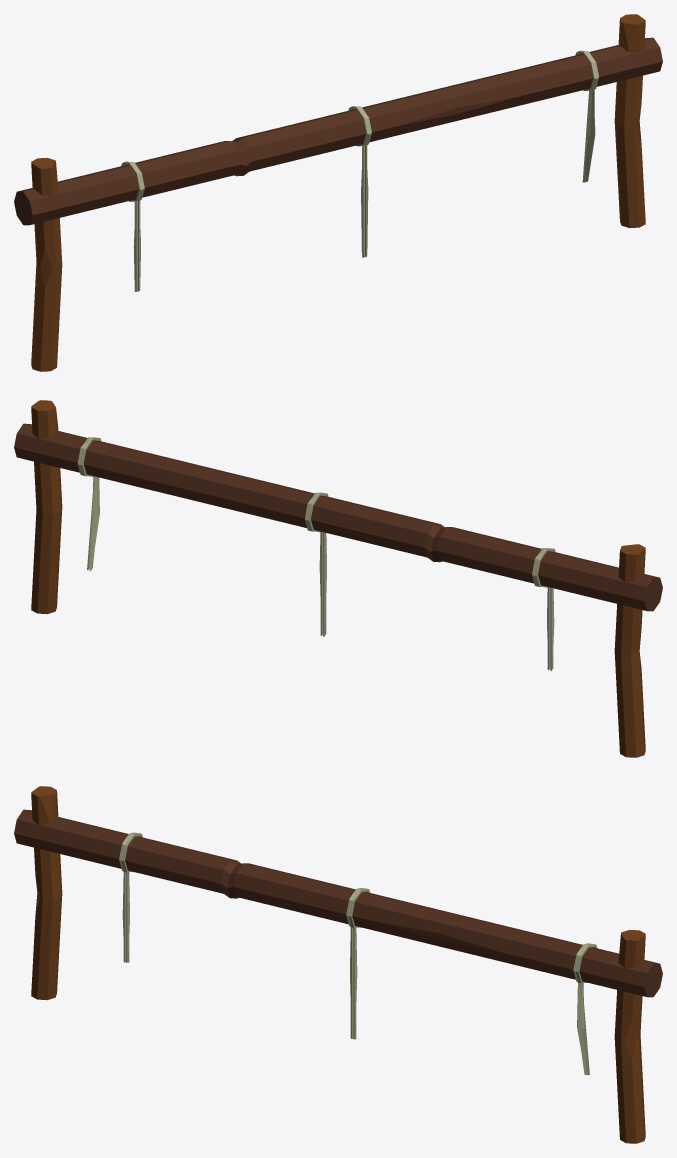
File: Hitching_Post.fbx
The picture shows the model from 3 angles, top to bottom: view 1: azimuth 30°, elevation 25°; view 2: azimuth 150°, elevation 25°; view 3: azimuth 330°, elevation 25°; orthographic projection.
Visible parts, largest first — view 1: Cylinder.003; view 2: Cylinder.003; view 3: Cylinder.003.
Boxes of the visible parts, box(x1,y1,x2,y2) form: Cylinder.003: box(14, 14, 662, 371); Cylinder.003: box(14, 400, 662, 757); Cylinder.003: box(14, 786, 662, 1143).
Size of the model in its own units: 364 by 112 by 21.29.
